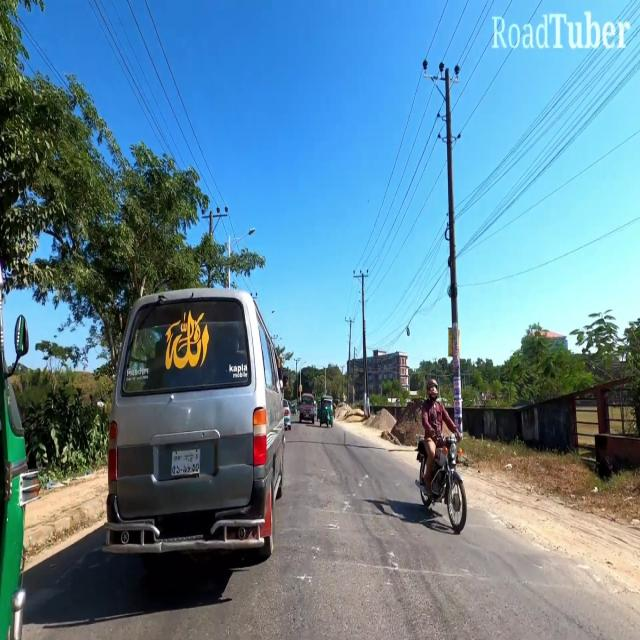maroon: (300, 394, 314, 425)
silver: (107, 288, 284, 560)
